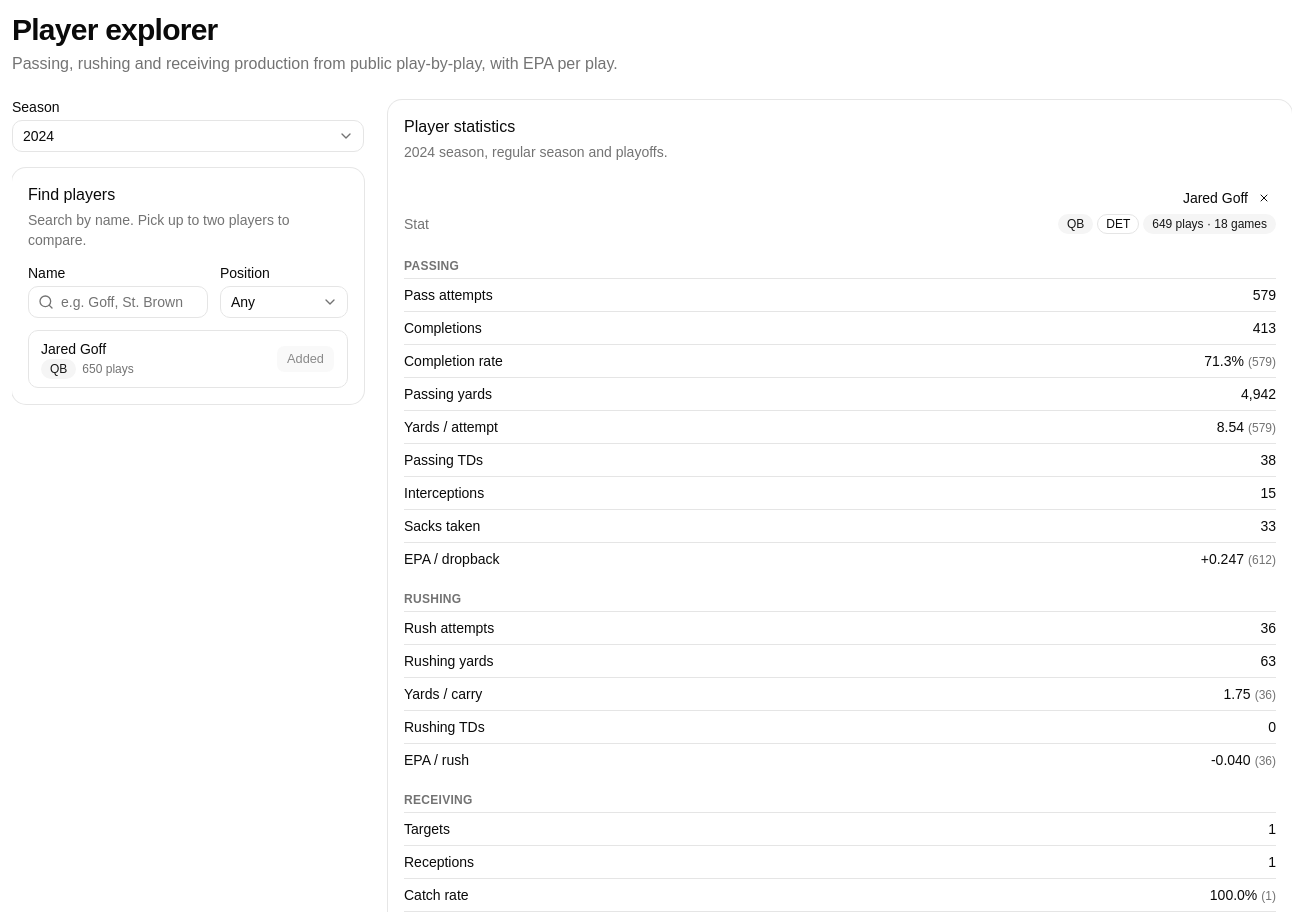
Test: PlayersPage › removes a player from the comparison
The image size is (1292, 912).
Click the button named "Remove Jared Goff": [1264, 198] box [1252,186,1276,210]
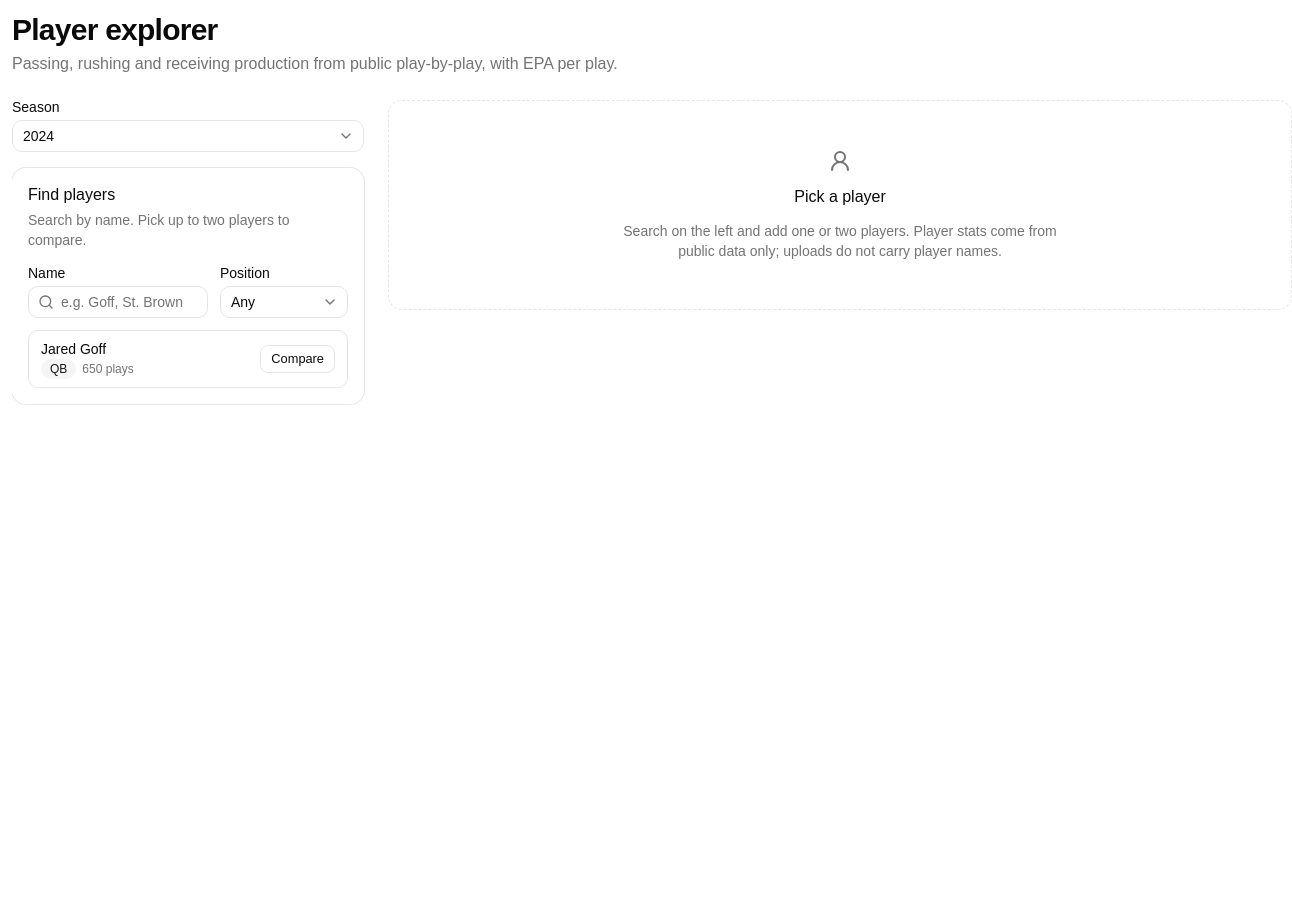
Now the text "Pick a player" is shown, box [794,185,886,209]
